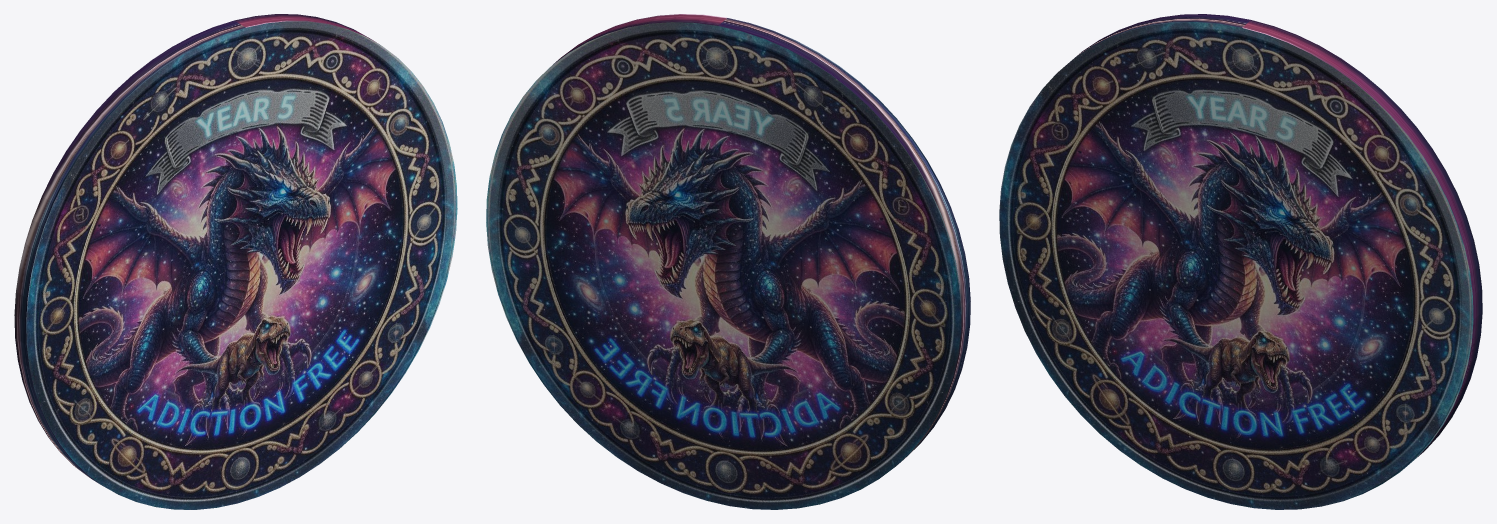
Rendered from coin_year_5.glb.
The picture shows the model from 3 angles, left to right: view 1: azimuth 30°, elevation 25°; view 2: azimuth 150°, elevation 25°; view 3: azimuth 330°, elevation 25°; orthographic projection.
Visible parts, largest first — view 1: Cylinder; view 2: Cylinder; view 3: Cylinder.
Part boxes in pixels (box(x1,y1,x2,y2)): Cylinder: box(14, 14, 457, 509); Cylinder: box(486, 14, 970, 509); Cylinder: box(999, 14, 1482, 509).
Bounding box in the file's own units: 2 × 2 × 0.2251.
Materials: 1 (1 with a texture image).
